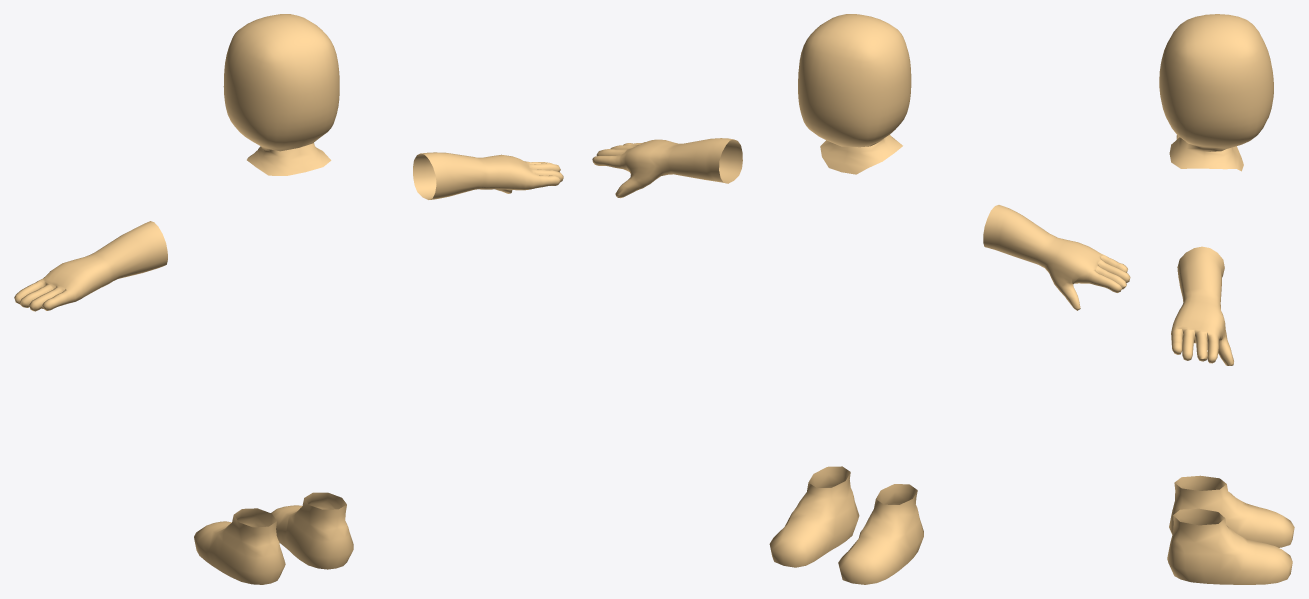
File: characterBodyNoEyes.fbx
The picture shows the model from 3 angles, left to right: view 1: azimuth 30°, elevation 25°; view 2: azimuth 150°, elevation 25°; view 3: azimuth 270°, elevation 25°; orthographic projection. The views are drawn at different scales.
Parts seen in each view (by area): view 1: character body; view 2: character body; view 3: character body.
Part boxes in pixels (x1=…): character body: x1=14, y1=14, x2=563, y2=584; character body: x1=592, y1=14, x2=1130, y2=584; character body: x1=1159, y1=14, x2=1294, y2=584.
Size of the model in its own units: 228 by 217 by 49.56.
